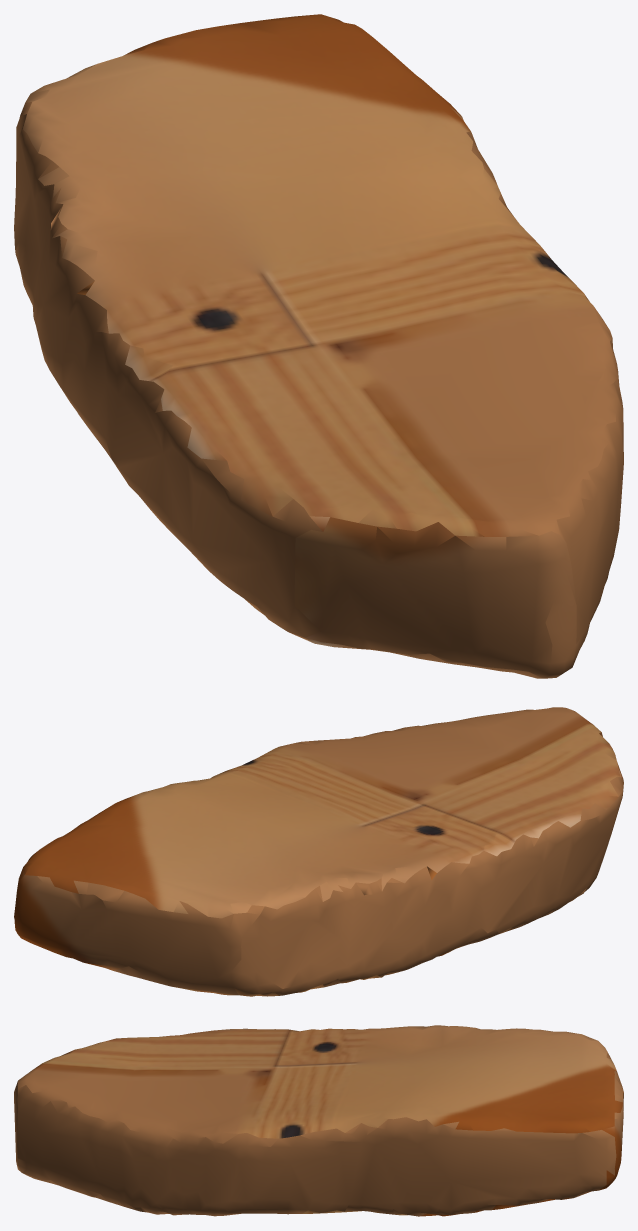
File: Glacier_board10.fbx
The picture shows the model from 3 angles, top to bottom: view 1: azimuth 30°, elevation 25°; view 2: azimuth 150°, elevation 25°; view 3: azimuth 270°, elevation 25°; orthographic projection. The views are drawn at different scales.
Visible parts, largest first — view 1: material_0; view 2: material_0; view 3: material_0.
Part boxes in pixels (bbox=[...]): material_0: bbox=[14, 14, 623, 678]; material_0: bbox=[14, 707, 623, 996]; material_0: bbox=[14, 1025, 623, 1216].
Size of the model in its own units: 0.1387 by 0.0643 by 0.2579.
